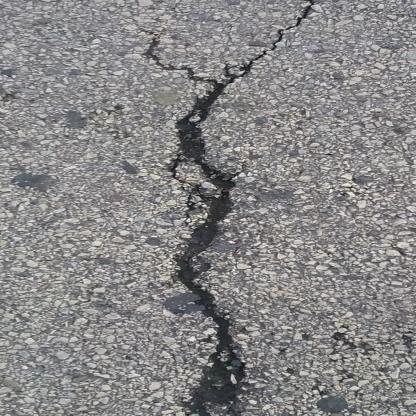Cracks: (171, 0, 320, 416)
